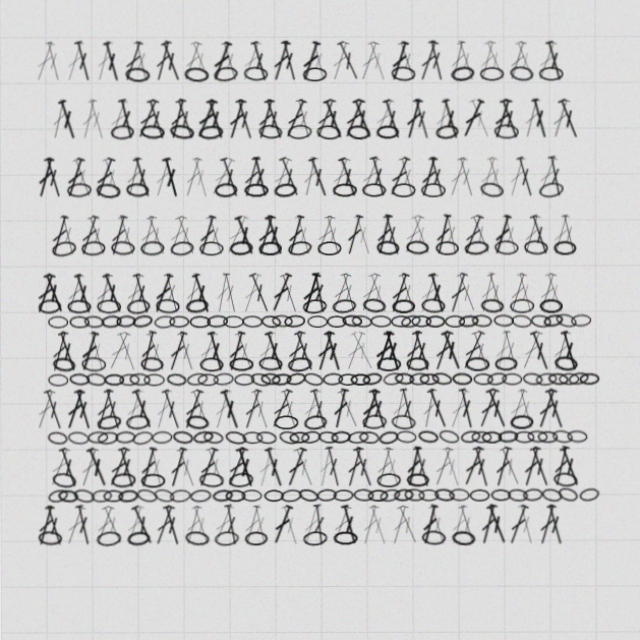chain: (529, 187, 555, 205), (50, 244, 76, 262), (282, 244, 308, 262), (94, 415, 120, 433), (471, 187, 496, 205), (166, 130, 192, 147), (50, 472, 76, 489), (210, 73, 235, 90), (224, 472, 249, 489), (443, 73, 467, 90), (501, 73, 525, 90), (182, 301, 206, 318), (356, 301, 380, 318), (544, 358, 568, 375), (123, 74, 148, 90), (181, 74, 206, 90), (195, 131, 220, 147), (311, 131, 336, 147), (94, 188, 119, 204), (456, 245, 481, 261), (297, 302, 322, 318), (326, 302, 351, 318), (282, 359, 307, 375), (384, 416, 409, 432), (543, 473, 568, 489), (94, 530, 119, 546), (181, 530, 206, 546), (210, 530, 235, 546), (297, 530, 322, 546), (545, 316, 568, 333), (341, 131, 365, 147), (428, 131, 452, 147), (269, 188, 293, 204), (167, 245, 191, 261), (124, 302, 148, 318), (472, 302, 496, 318), (51, 359, 75, 375), (182, 416, 206, 432), (298, 416, 322, 432), (124, 530, 148, 546), (443, 530, 467, 546), (123, 416, 148, 431), (195, 473, 220, 488), (430, 430, 452, 447), (547, 487, 569, 504), (220, 431, 243, 447), (71, 488, 94, 504), (240, 74, 264, 89), (385, 74, 409, 89), (138, 131, 162, 146), (254, 131, 278, 146), (283, 131, 307, 146), (486, 131, 510, 146), (66, 188, 90, 203), (80, 245, 104, 260), (109, 245, 133, 260), (138, 245, 162, 260), (225, 245, 249, 260), (486, 245, 510, 260), (515, 245, 539, 260), (37, 302, 61, 317), (153, 302, 177, 317), (414, 302, 438, 317), (80, 359, 104, 374), (254, 359, 278, 374), (356, 416, 380, 431), (109, 473, 133, 488), (37, 530, 61, 545), (414, 530, 438, 545), (393, 317, 415, 333), (245, 374, 267, 390), (297, 374, 319, 390), (129, 431, 151, 447), (273, 431, 295, 447), (371, 431, 393, 447), (46, 488, 68, 504), (133, 488, 155, 504), (150, 488, 172, 504), (292, 488, 314, 504), (372, 488, 394, 504), (531, 488, 553, 504), (109, 131, 132, 146), (124, 188, 147, 203), (211, 188, 234, 203), (370, 245, 393, 260), (399, 245, 422, 260), (138, 359, 161, 374), (298, 75, 322, 89), (472, 75, 496, 89), (530, 75, 554, 89), (240, 189, 264, 203), (327, 189, 351, 203), (356, 189, 380, 203), (385, 189, 409, 203), (414, 189, 438, 203), (196, 246, 220, 260), (312, 246, 336, 260), (66, 303, 90, 317), (95, 303, 119, 317), (501, 303, 525, 317), (196, 360, 220, 374), (225, 360, 249, 374), (370, 360, 394, 374), (457, 360, 481, 374), (269, 417, 293, 431), (138, 474, 162, 488), (370, 474, 394, 488), (327, 531, 351, 545), (129, 317, 151, 332), (533, 317, 555, 332), (183, 374, 205, 389), (280, 374, 302, 389), (355, 374, 377, 389), (423, 374, 445, 389), (568, 488, 590, 503), (370, 132, 393, 146), (254, 246, 277, 260), (428, 246, 451, 260), (544, 246, 567, 260), (385, 303, 408, 317), (530, 303, 553, 317), (399, 360, 422, 374), (486, 360, 509, 374), (501, 417, 524, 431), (399, 474, 422, 488), (240, 531, 263, 545), (84, 374, 105, 389), (376, 374, 397, 389), (478, 374, 499, 389), (558, 374, 579, 389), (169, 431, 190, 446), (189, 431, 210, 446), (295, 431, 316, 446), (410, 431, 431, 446), (452, 431, 473, 446), (542, 431, 563, 446), (426, 488, 447, 503), (151, 318, 173, 332), (526, 375, 548, 389), (66, 432, 88, 446), (95, 432, 117, 446), (341, 432, 363, 446), (166, 489, 188, 503), (186, 489, 208, 503), (275, 489, 297, 503), (82, 318, 103, 332), (256, 318, 277, 332), (345, 318, 366, 332), (450, 318, 471, 332), (502, 318, 523, 332), (521, 318, 542, 332), (163, 375, 184, 389), (266, 375, 287, 389), (513, 375, 534, 389), (538, 375, 559, 389), (46, 432, 67, 446), (199, 432, 220, 446), (251, 432, 272, 446), (312, 432, 333, 446), (352, 432, 373, 446), (56, 489, 77, 503), (89, 489, 110, 503), (115, 489, 136, 503), (208, 489, 229, 503), (498, 489, 519, 503), (99, 318, 120, 331), (203, 318, 224, 331), (267, 318, 288, 331), (279, 318, 300, 331), (463, 318, 484, 331), (127, 375, 148, 388), (209, 375, 230, 388), (387, 375, 408, 388), (386, 489, 407, 502), (513, 489, 534, 502), (114, 318, 134, 331), (336, 318, 356, 331), (485, 318, 505, 331), (561, 318, 581, 331), (68, 375, 88, 388), (256, 375, 276, 388), (317, 375, 337, 388), (402, 375, 422, 388), (444, 375, 464, 388), (86, 432, 106, 445), (113, 432, 133, 445), (149, 432, 169, 445), (325, 432, 345, 445), (389, 432, 409, 445), (489, 432, 509, 445), (518, 432, 538, 445), (557, 432, 577, 445), (311, 489, 331, 502), (347, 489, 367, 502), (397, 489, 417, 502), (441, 489, 461, 502), (186, 319, 207, 331), (219, 319, 240, 331), (364, 319, 385, 331), (141, 376, 162, 388), (194, 376, 215, 388), (47, 319, 67, 331), (68, 319, 88, 331), (166, 319, 186, 331), (238, 319, 258, 331), (302, 319, 322, 331), (321, 319, 341, 331), (384, 319, 404, 331), (404, 319, 424, 331), (418, 319, 438, 331), (437, 319, 457, 331), (47, 376, 67, 388), (102, 376, 122, 388), (117, 376, 137, 388), (230, 376, 250, 388), (332, 376, 352, 388), (344, 376, 364, 388), (412, 376, 432, 388), (465, 376, 485, 388), (493, 376, 513, 388), (549, 376, 569, 388), (569, 376, 589, 388), (238, 433, 258, 445), (284, 433, 304, 445), (463, 433, 483, 445), (473, 433, 493, 445), (505, 433, 525, 445), (528, 433, 548, 445), (101, 490, 121, 502), (221, 490, 241, 502), (237, 490, 257, 502), (259, 490, 279, 502), (327, 490, 347, 502), (361, 490, 381, 502), (411, 490, 431, 502), (461, 490, 481, 502), (482, 490, 502, 502)
double: (204, 162, 234, 203), (342, 333, 371, 374), (329, 48, 357, 89), (451, 105, 479, 146), (219, 219, 247, 260), (103, 333, 131, 374), (451, 333, 479, 374), (126, 504, 154, 545), (546, 105, 573, 147), (169, 219, 196, 261), (285, 447, 312, 489), (474, 48, 501, 89), (132, 105, 159, 146), (190, 105, 217, 146), (277, 105, 304, 146), (335, 105, 362, 146), (364, 105, 391, 146), (459, 105, 486, 146), (379, 162, 406, 203), (393, 219, 420, 260), (242, 276, 269, 317), (263, 276, 290, 317), (509, 333, 536, 374), (184, 390, 211, 431), (263, 390, 290, 431), (329, 390, 356, 431), (45, 447, 72, 488), (82, 447, 109, 488), (103, 447, 130, 488), (219, 447, 246, 488), (488, 447, 515, 488), (97, 504, 124, 545), (387, 504, 414, 545), (156, 48, 182, 90), (504, 48, 530, 90), (525, 48, 551, 90), (315, 105, 341, 147), (90, 162, 116, 204), (264, 162, 290, 204), (141, 219, 167, 261), (228, 219, 254, 261), (452, 219, 478, 261), (359, 276, 385, 318), (112, 333, 138, 375), (191, 333, 217, 375), (286, 333, 312, 375), (336, 333, 362, 375), (518, 333, 544, 375), (438, 390, 464, 432), (170, 447, 196, 489), (191, 447, 217, 489), (278, 447, 304, 489), (344, 447, 370, 489), (547, 447, 573, 489), (148, 504, 174, 546), (322, 504, 348, 546), (496, 504, 522, 546), (185, 48, 211, 89), (307, 105, 333, 146), (344, 105, 370, 146), (272, 162, 298, 203), (351, 162, 377, 203), (525, 162, 551, 203), (460, 219, 486, 260), (40, 276, 66, 317), (98, 276, 124, 317), (322, 276, 348, 317), (351, 276, 377, 317), (446, 276, 472, 317), (431, 333, 457, 374), (127, 390, 153, 431), (417, 390, 443, 431), (467, 390, 493, 431), (475, 390, 501, 431), (199, 447, 225, 488), (452, 447, 478, 488), (206, 504, 232, 545), (264, 504, 290, 545), (475, 504, 501, 545), (32, 48, 57, 90), (119, 48, 144, 90), (177, 48, 202, 90), (206, 48, 231, 90), (235, 48, 260, 90), (351, 48, 376, 90), (359, 48, 384, 90), (409, 48, 434, 90), (104, 105, 129, 147), (170, 105, 195, 147), (257, 105, 282, 147), (489, 105, 514, 147), (539, 105, 564, 147), (69, 162, 94, 204), (98, 162, 123, 204), (214, 162, 239, 204), (301, 162, 326, 204), (322, 162, 347, 204), (330, 162, 355, 204), (438, 162, 463, 204), (83, 219, 108, 261), (162, 219, 187, 261), (199, 219, 224, 261), (249, 219, 274, 261), (307, 219, 332, 261), (402, 219, 427, 261), (518, 219, 543, 261), (32, 276, 57, 318), (148, 276, 173, 318), (235, 276, 260, 318), (272, 276, 297, 318), (380, 276, 405, 318), (409, 276, 434, 318), (438, 276, 463, 318), (533, 276, 558, 318), (54, 333, 79, 375), (141, 333, 166, 375), (162, 333, 187, 375), (228, 333, 253, 375), (257, 333, 282, 375), (365, 333, 390, 375), (402, 333, 427, 375), (423, 333, 448, 375), (460, 333, 485, 375), (32, 390, 57, 432), (40, 390, 65, 432), (61, 390, 86, 432), (156, 390, 181, 432), (177, 390, 202, 432), (214, 390, 239, 432), (293, 390, 318, 432), (351, 390, 376, 432), (496, 390, 521, 432), (525, 390, 550, 432), (533, 390, 558, 432), (75, 447, 100, 489), (257, 447, 282, 489), (423, 447, 448, 489), (518, 447, 543, 489), (61, 504, 86, 546), (90, 504, 115, 546), (185, 504, 210, 546), (359, 504, 384, 546), (62, 48, 86, 90), (265, 48, 289, 90), (294, 48, 318, 90), (323, 48, 347, 90), (381, 48, 405, 90), (389, 48, 413, 90), (447, 48, 471, 90), (497, 48, 521, 90), (55, 105, 79, 147), (142, 105, 166, 147), (200, 105, 224, 147), (221, 105, 245, 147), (229, 105, 253, 147), (374, 105, 398, 147), (403, 105, 427, 147), (482, 105, 506, 147), (62, 162, 86, 204), (128, 162, 152, 204), (178, 162, 202, 204), (468, 162, 492, 204), (76, 219, 100, 261), (113, 219, 137, 261), (258, 219, 282, 261), (345, 219, 369, 261), (482, 219, 506, 261), (70, 276, 94, 318), (120, 276, 144, 318), (186, 276, 210, 318), (294, 276, 318, 318), (389, 276, 413, 318), (497, 276, 521, 318), (526, 276, 550, 318), (76, 333, 100, 375), (171, 333, 195, 375), (250, 333, 274, 375), (279, 333, 303, 375), (374, 333, 398, 375), (236, 390, 260, 432), (244, 390, 268, 432), (55, 447, 79, 489), (229, 447, 253, 489), (432, 447, 456, 489), (41, 504, 65, 546), (120, 504, 144, 546), (273, 504, 297, 546), (418, 504, 442, 546), (447, 504, 471, 546), (99, 48, 122, 90), (215, 48, 238, 90), (244, 48, 267, 90), (468, 48, 491, 90), (534, 48, 557, 90), (84, 105, 107, 147), (250, 105, 273, 147), (432, 105, 455, 147), (41, 162, 64, 204), (149, 162, 172, 204), (157, 162, 180, 204), (186, 162, 209, 204), (236, 162, 259, 204), (389, 162, 412, 204), (410, 162, 433, 204), (447, 162, 470, 204), (476, 162, 499, 204), (497, 162, 520, 204), (505, 162, 528, 204), (47, 219, 70, 261), (105, 219, 128, 261), (134, 219, 157, 261), (192, 219, 215, 261), (279, 219, 302, 261), (287, 219, 310, 261), (316, 219, 339, 261), (337, 219, 360, 261), (374, 219, 397, 261), (511, 219, 534, 261), (540, 219, 563, 261), (62, 276, 85, 318), (91, 276, 114, 318), (128, 276, 151, 318), (418, 276, 441, 318), (476, 276, 499, 318), (505, 276, 528, 318), (47, 333, 70, 375), (84, 333, 107, 375), (221, 333, 244, 375), (308, 333, 331, 375), (316, 333, 339, 375), (395, 333, 418, 375), (540, 333, 563, 375), (548, 333, 571, 375), (70, 390, 93, 432), (91, 390, 114, 432), (99, 390, 122, 432), (120, 390, 143, 432), (149, 390, 172, 432), (207, 390, 230, 432), (273, 390, 296, 432), (302, 390, 325, 432), (360, 390, 383, 432), (113, 447, 136, 489), (134, 447, 157, 489), (163, 447, 186, 489), (250, 447, 273, 489), (337, 447, 360, 489), (366, 447, 389, 489), (374, 447, 397, 489), (403, 447, 426, 489), (511, 447, 534, 489), (33, 504, 56, 546), (157, 504, 180, 546), (178, 504, 201, 546), (236, 504, 259, 546), (294, 504, 317, 546), (352, 504, 375, 546), (381, 504, 404, 546), (439, 504, 462, 546), (526, 504, 549, 546), (534, 504, 557, 546), (396, 105, 418, 147), (34, 162, 56, 204), (419, 162, 441, 204), (491, 218, 513, 260), (201, 333, 223, 375), (483, 333, 505, 375), (506, 390, 528, 432), (462, 447, 484, 489), (483, 447, 505, 489), (42, 48, 64, 89), (71, 48, 93, 89), (92, 48, 114, 89), (150, 48, 172, 89), (274, 48, 296, 89), (303, 48, 325, 89), (77, 105, 99, 146), (164, 105, 186, 146), (288, 105, 310, 146), (512, 105, 534, 146), (520, 105, 542, 146), (121, 162, 143, 203), (245, 162, 267, 203), (361, 162, 383, 203), (56, 219, 78, 260), (367, 219, 389, 260), (158, 276, 180, 317), (332, 276, 354, 317), (491, 333, 513, 374), (332, 504, 354, 545), (411, 504, 433, 545), (469, 504, 491, 545), (506, 504, 528, 545), (129, 48, 150, 89), (419, 48, 440, 89), (440, 48, 461, 89), (48, 105, 69, 146), (114, 105, 135, 146), (425, 105, 446, 146), (295, 162, 316, 203), (425, 219, 446, 260), (549, 219, 570, 260), (179, 276, 200, 317), (216, 276, 237, 317), (469, 276, 490, 317), (135, 333, 156, 374), (324, 390, 345, 431), (382, 390, 403, 431), (390, 390, 411, 431), (448, 390, 469, 431), (143, 447, 164, 488), (317, 447, 338, 488), (396, 447, 417, 488), (541, 447, 562, 488), (71, 504, 92, 545), (245, 504, 266, 545), (536, 162, 556, 203), (434, 219, 454, 260), (209, 276, 229, 317), (304, 276, 324, 317), (412, 390, 432, 431), (310, 447, 330, 488), (217, 504, 237, 545), (305, 504, 322, 545)
